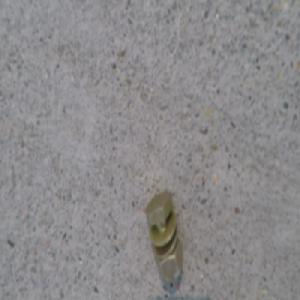BoltNutSet: (142, 186, 181, 279)
